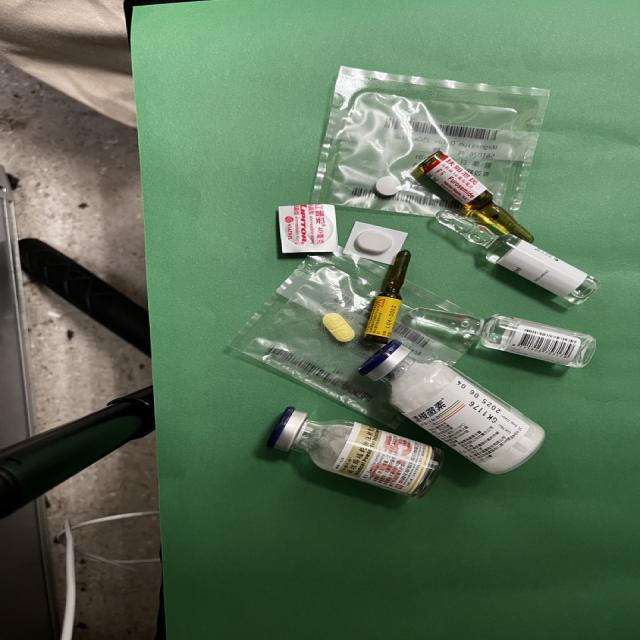Ampoules: (435, 210, 599, 306), (402, 308, 595, 368), (411, 151, 533, 243), (363, 250, 410, 344)
Vials: (358, 339, 545, 474), (267, 406, 443, 496)
